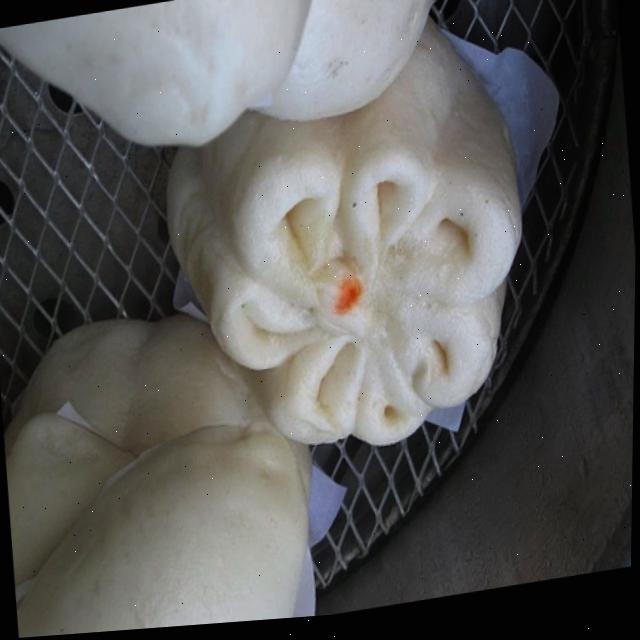带馅早点: (72, 0, 573, 554)
